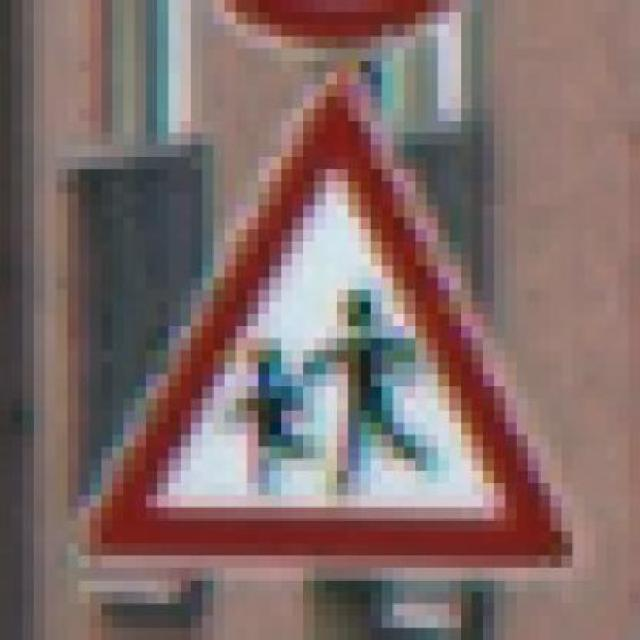Beware of children: (78, 60, 584, 592)
